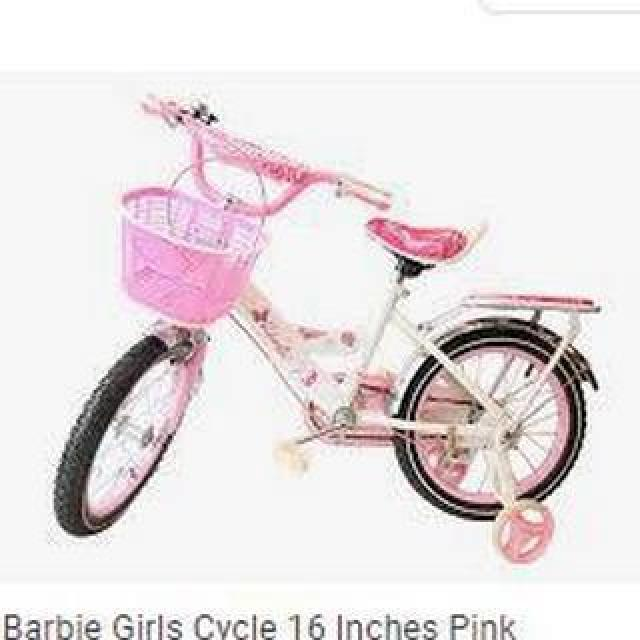Person: (48, 94, 606, 538)
